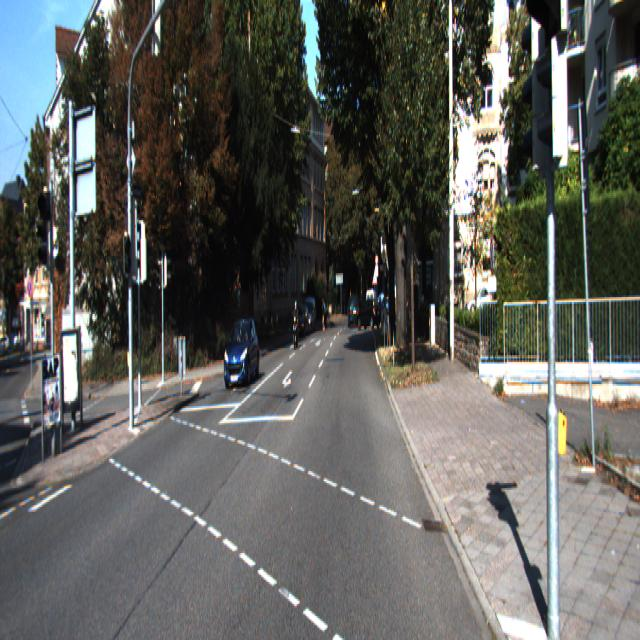Car: (222, 314, 260, 389), (294, 305, 310, 340)
DontCare: (312, 288, 391, 333)
Misc: (291, 300, 300, 348)
